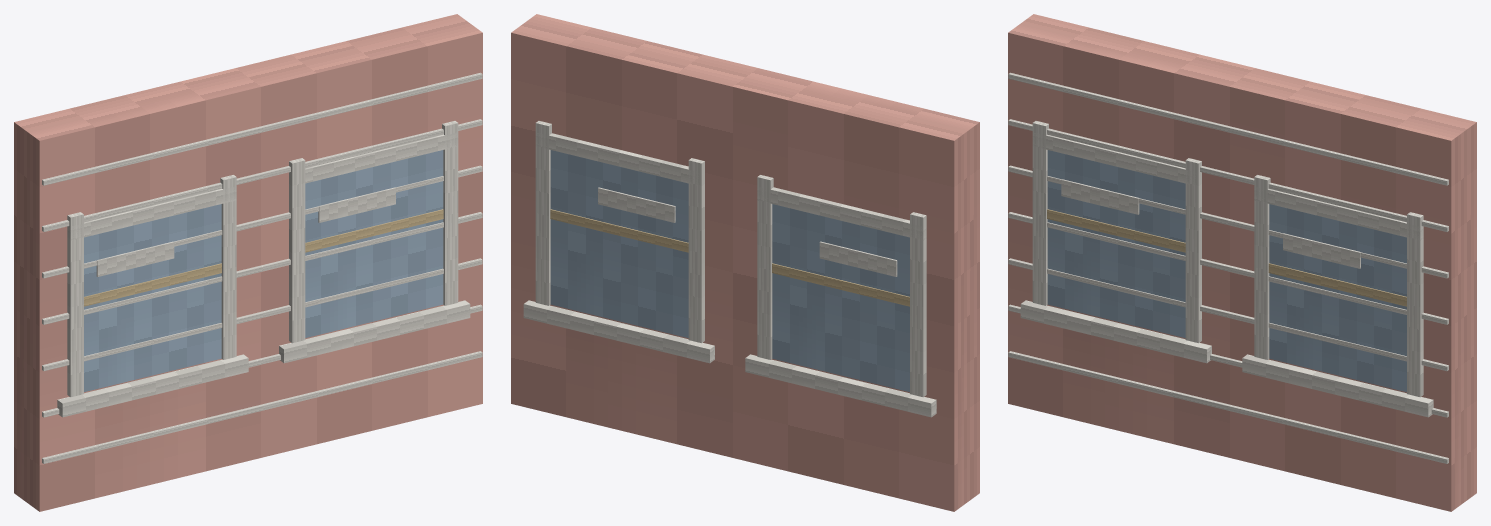
The model's file is pixel-modern-city-street-window-bay-brick-197c1133__29008.glb.
3 views of the same model, side by side, from view 1: azimuth 30°, elevation 25°; view 2: azimuth 150°, elevation 25°; view 3: azimuth 330°, elevation 25° (orthographic).
Parts seen in each view (by area): view 1: window-bay-brick; view 2: window-bay-brick; view 3: window-bay-brick.
Boxes of the visible parts, x1=… form: window-bay-brick: x1=14, y1=14, x2=482, y2=511; window-bay-brick: x1=511, y1=14, x2=979, y2=511; window-bay-brick: x1=1008, y1=14, x2=1476, y2=511.
Bounding box in the file's own units: 4 × 3.2 × 0.5598.
Materials: 4 (4 with a texture image).
